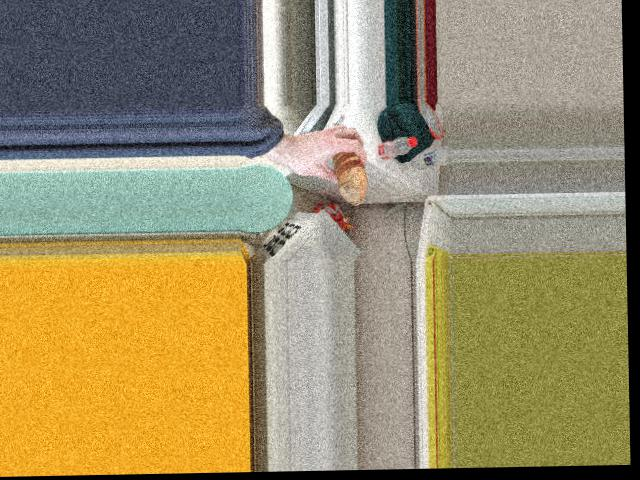sweet_potato: (324, 146, 369, 192)
